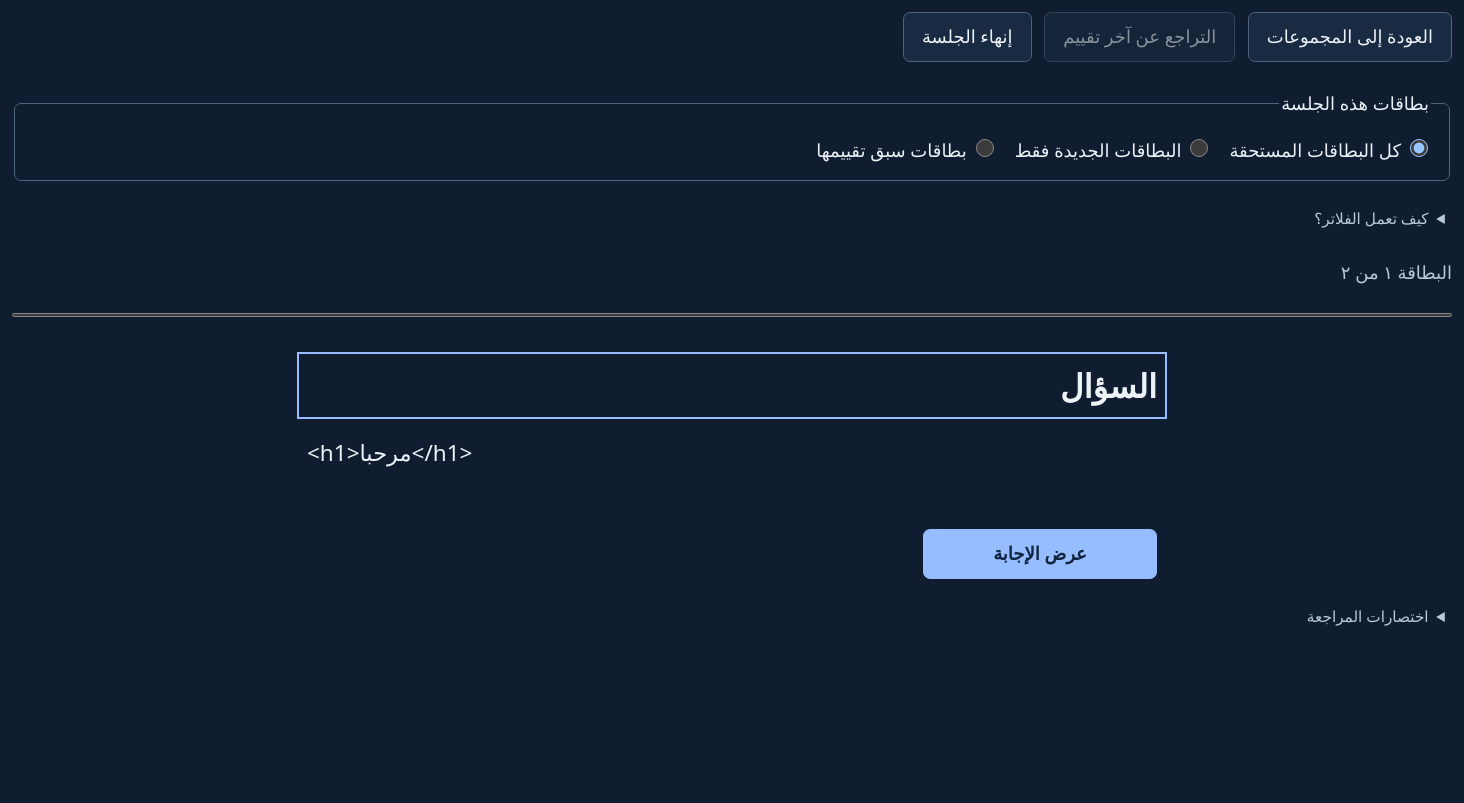
Test: switches empty filters and restores the reserved revealed form at a cycle boundary
expect the heading "السؤال" is shown: met, box [1060,363,1157,407]
expect the radio button labelled "كل البطاقات المستحقة" is checked: met, box [1410,139,1428,157]
Click the button "عرض الإجابة". click: (1040, 554)
box: [923,529,1157,579]
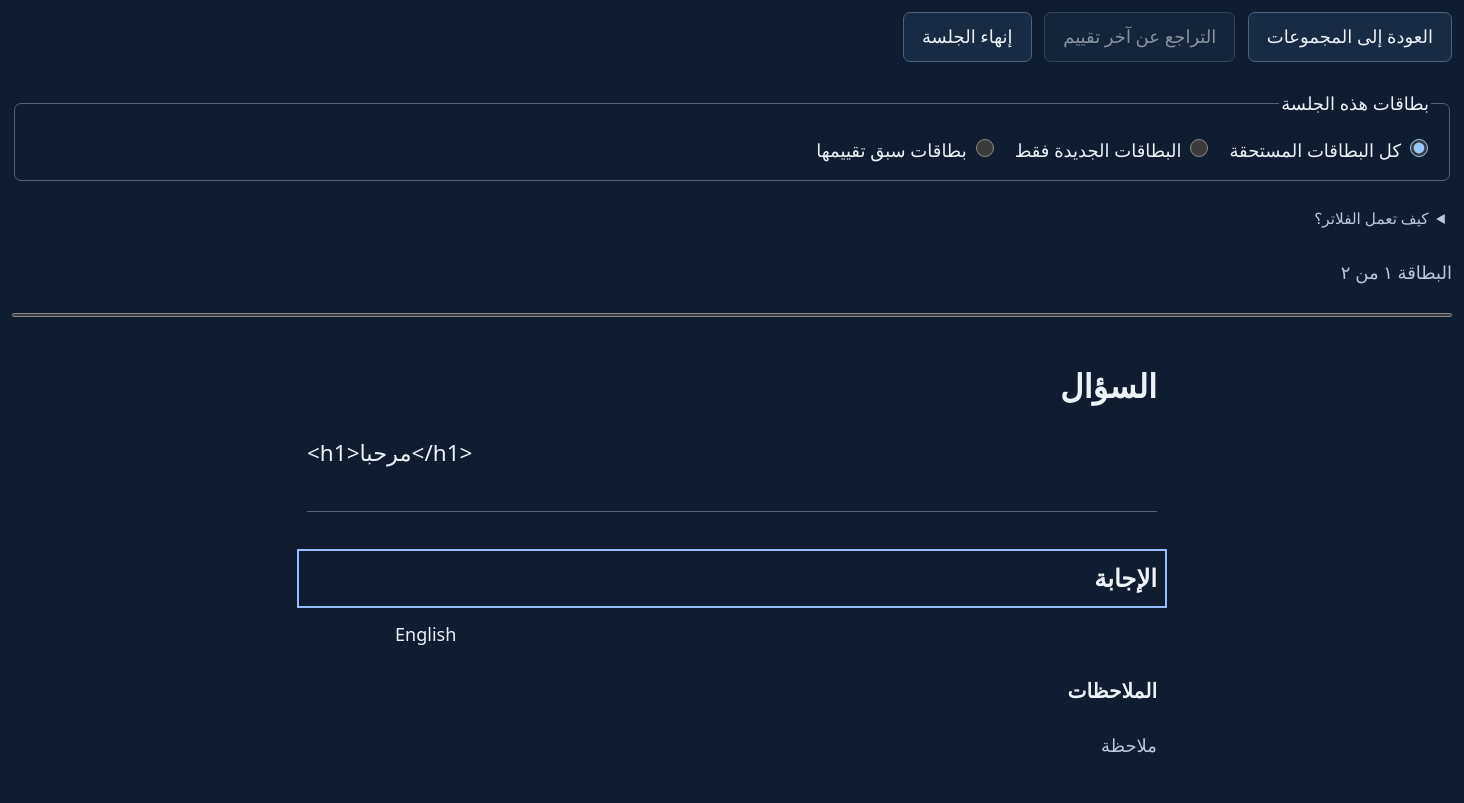
Click the radio button labelled "بطاقات سبق تقييمها". click: (985, 148)
box: [976,139,994,157]
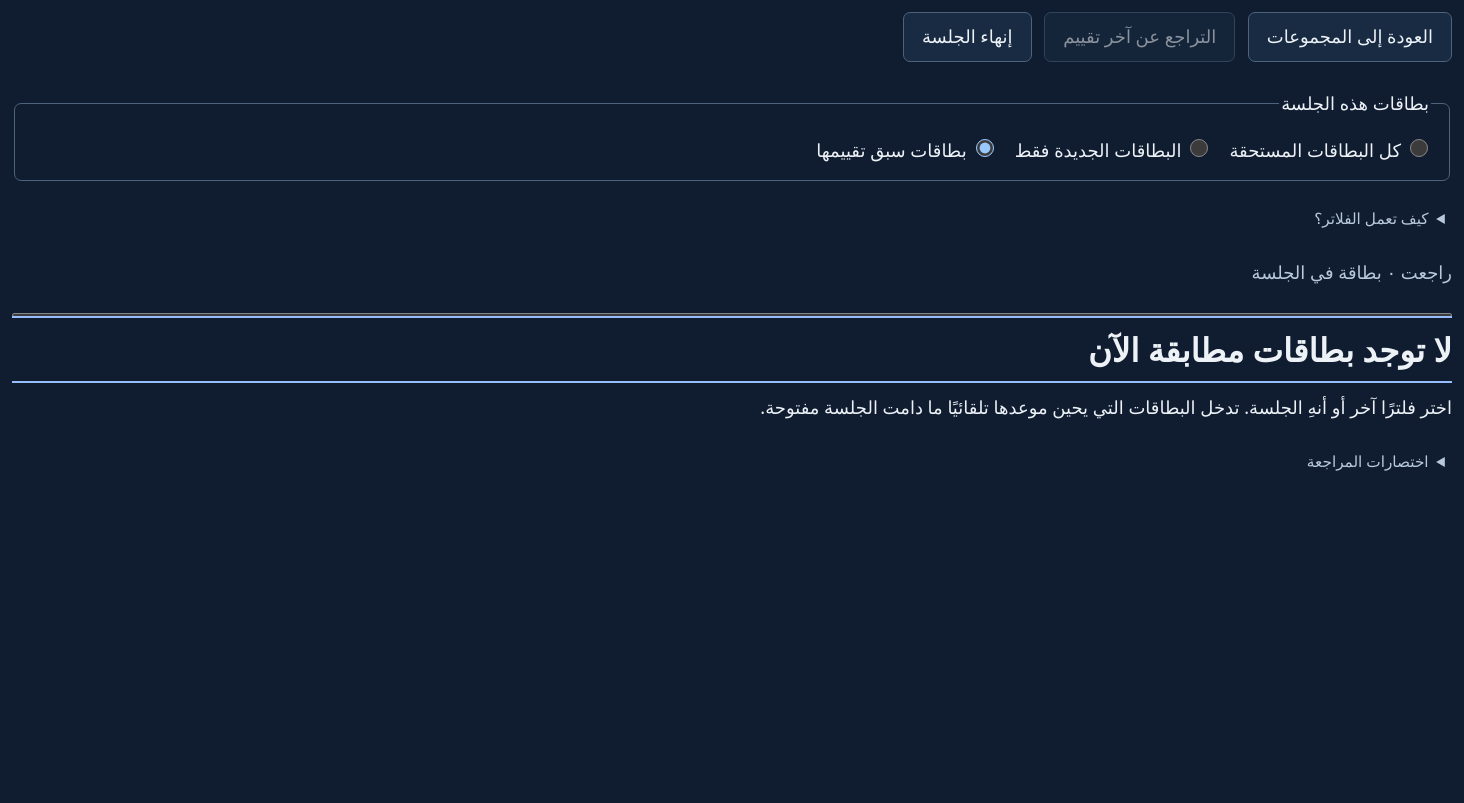
expect the heading "لا توجد بطاقات مطابقة الآن" is shown: met, box [1088,327,1452,371]
Click the radio button labelled "كل البطاقات المستحقة". click: (1419, 148)
box: [1410,139,1428,157]
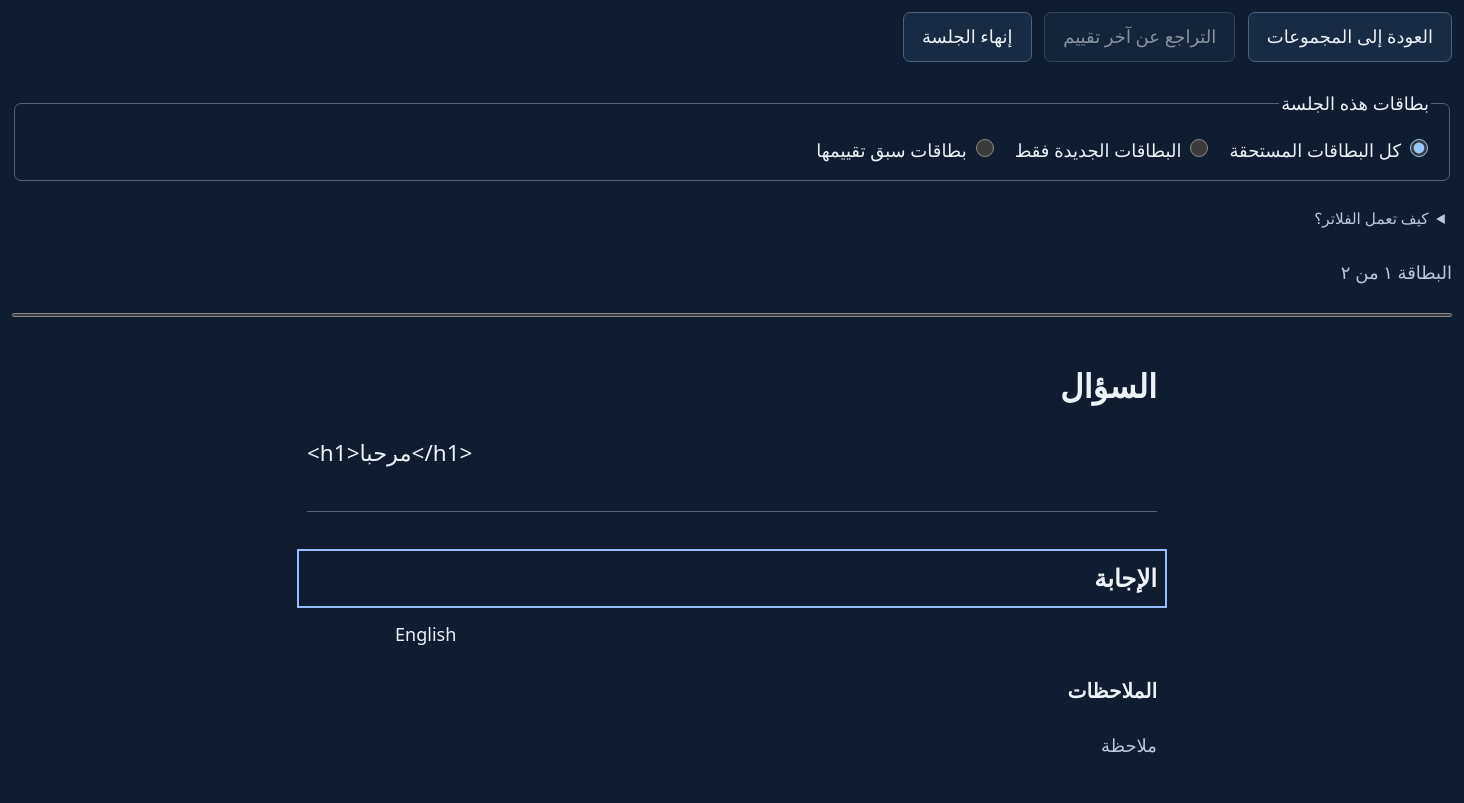
expect the heading "الإجابة" is shown: met, box [1094,561,1157,594]
expect the text "<h1>مرحبا</h1>" is shown: met, box [307,437,472,468]
